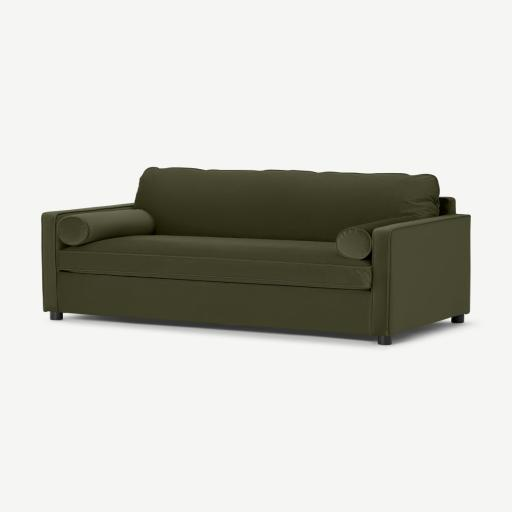back_cushion: (136, 168, 439, 245)
base: (55, 272, 369, 334)
left_arm: (369, 215, 470, 343)
legs: (377, 335, 391, 345), (452, 314, 463, 323), (50, 312, 62, 319)
one-seater: (42, 168, 470, 345)
right_arm: (42, 204, 133, 317)
seat_cushion: (58, 235, 372, 290)
